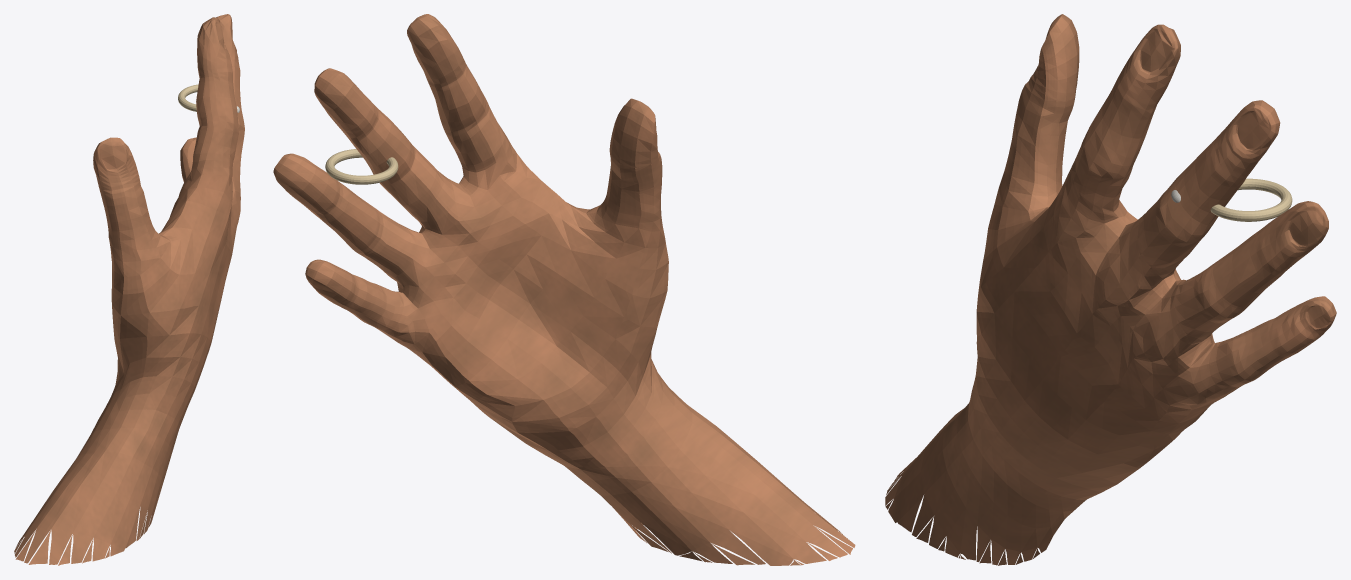
File: ring.glb
The picture shows the model from 3 angles, left to right: view 1: azimuth 30°, elevation 25°; view 2: azimuth 150°, elevation 25°; view 3: azimuth 270°, elevation 25°; orthographic projection. The views are drawn at different scales.
Visible parts, largest first — view 1: kwu_ring_skin_v7_surface_v14, kwu_ring_jewelry_01; view 2: kwu_ring_skin_v7_surface_v14, kwu_ring_jewelry_01; view 3: kwu_ring_skin_v7_surface_v14, kwu_ring_jewelry_01.
Part boxes in pixels (x1,y1,x2,y2): kwu_ring_skin_v7_surface_v14: [14, 14, 244, 565]; kwu_ring_jewelry_01: [178, 84, 198, 111]; kwu_ring_skin_v7_surface_v14: [273, 14, 855, 565]; kwu_ring_jewelry_01: [325, 149, 398, 184]; kwu_ring_skin_v7_surface_v14: [885, 14, 1336, 565]; kwu_ring_jewelry_01: [1210, 178, 1292, 221].
Size of the model in its own units: 2.2 by 2.63 by 1.71.
Materials: 1 (1 with a texture image).
